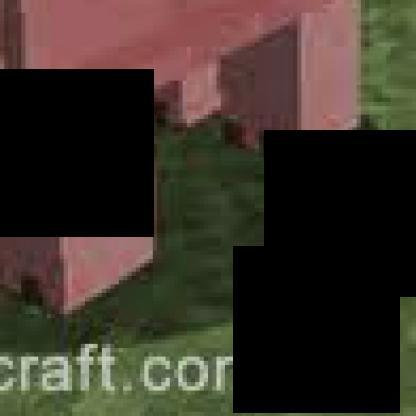minecraft-pigs: (0, 0, 408, 340)
